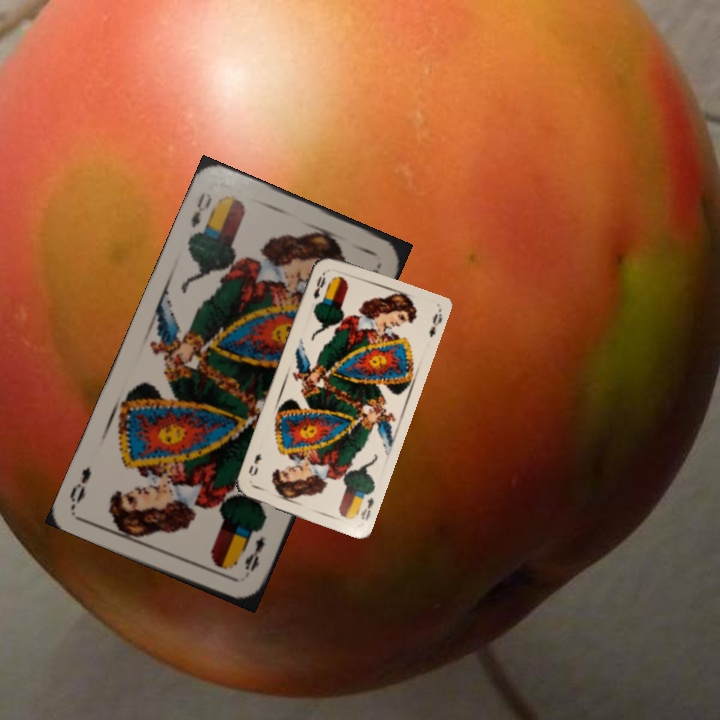EO: (187, 188, 215, 231), (240, 532, 268, 574), (309, 268, 328, 302), (357, 493, 377, 523)
